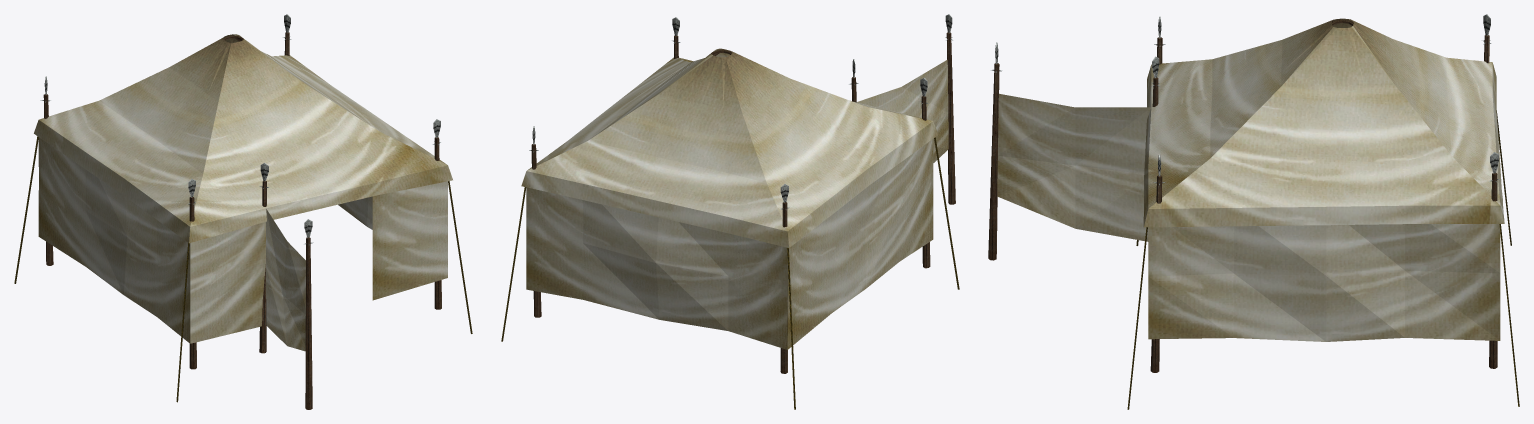
The model's file is schronienie5.glb.
3 views of the same model, side by side, from view 1: azimuth 30°, elevation 25°; view 2: azimuth 150°, elevation 25°; view 3: azimuth 270°, elevation 25° (orthographic). The views are drawn at different scales.
Visible parts, largest first — view 1: zengin01, zengin01.001; view 2: zengin01, zengin01.001; view 3: zengin01, zengin01.001.
Part boxes in pixels (left/top/right/bottom): zengin01: left=15, top=14, right=472, bottom=409; zengin01.001: left=14, top=34, right=471, bottom=401; zengin01: left=501, top=14, right=959, bottom=409; zengin01.001: left=501, top=48, right=959, bottom=409; zengin01: left=988, top=14, right=1519, bottom=409; zengin01.001: left=997, top=18, right=1519, bottom=409.
Bounding box in the file's own units: 5.64 × 4.86 × 7.7.
Materials: 8 (8 with a texture image).
